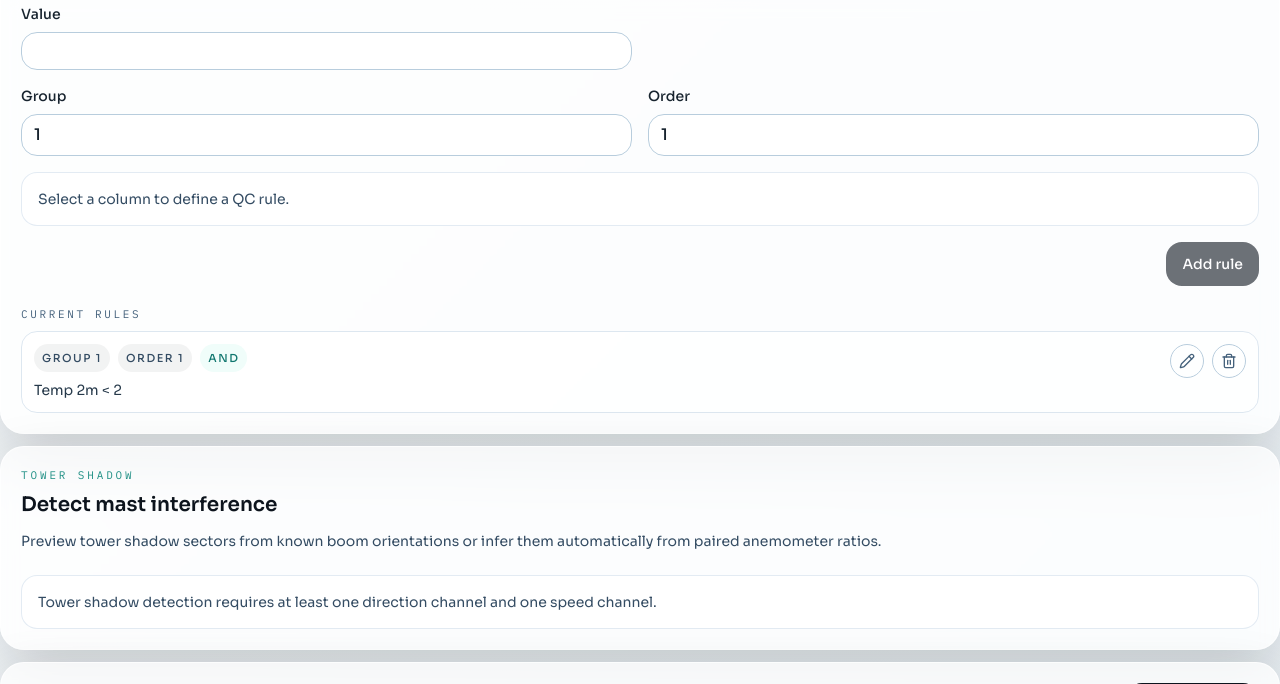
Test: removes a rule immediately while delete is in flight
(page scrolled)
expect the text "Temp 2m < 2" is shown: met, box 34,380 -> 122,398
Click the button named "delete rule rule-1": (1229, 360) 1212,344 -> 1246,378
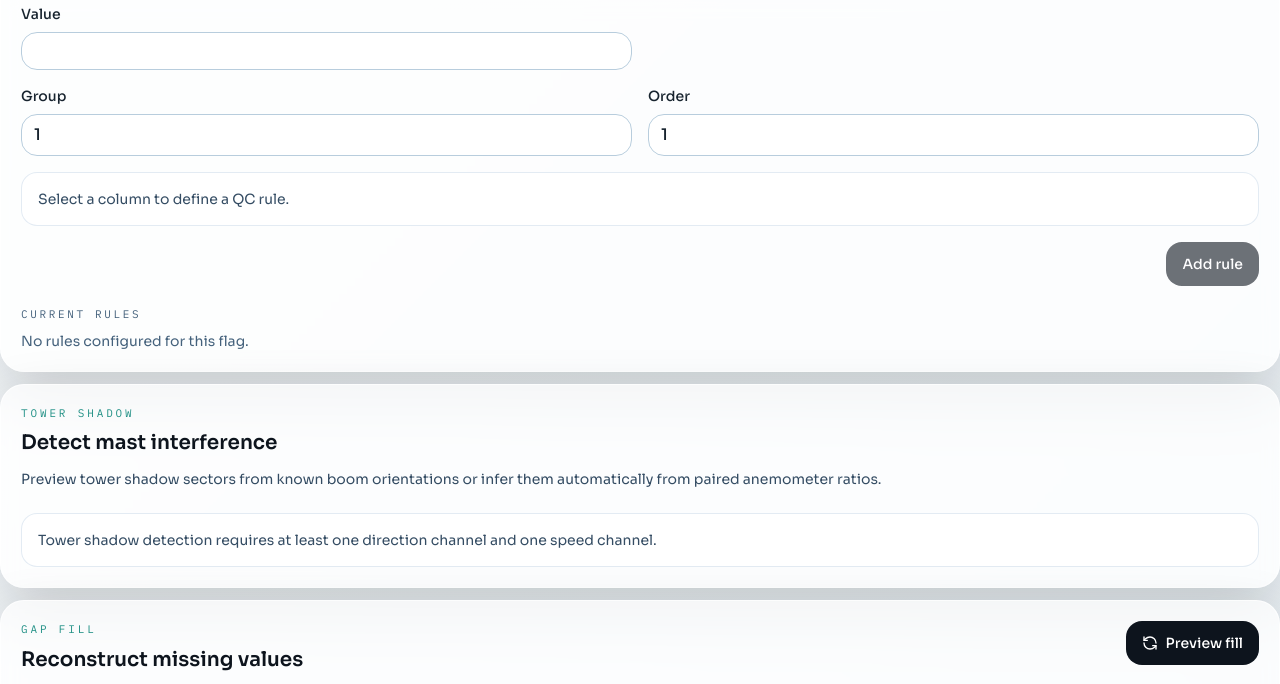
expect the text "Temp 2m < 2" is gone: met
